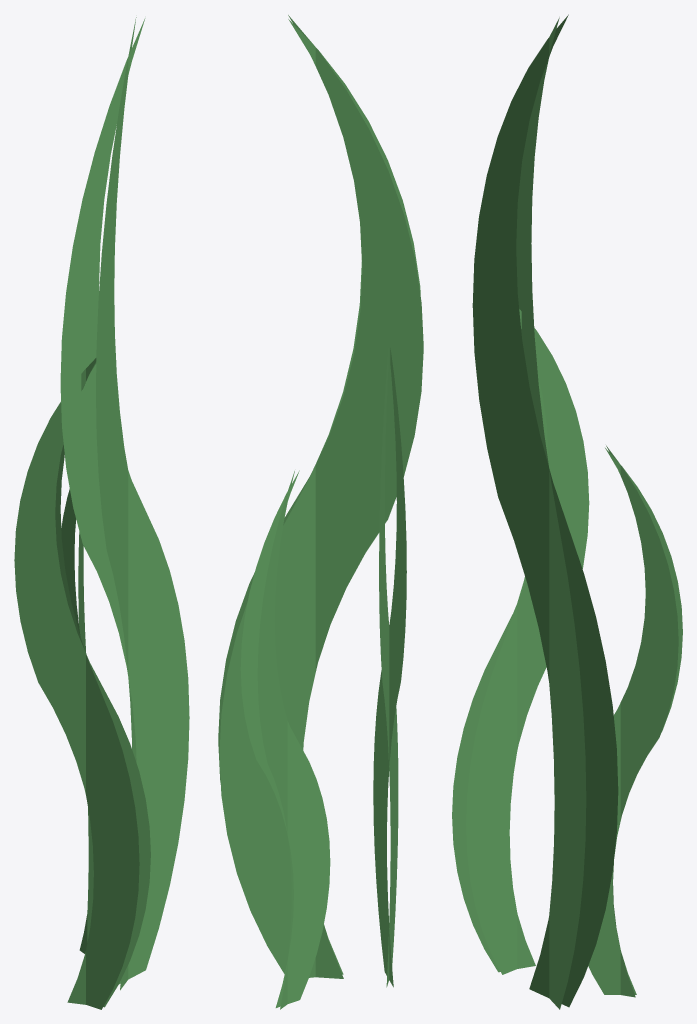
Rendered from seaweed.dae.
3 views of the same model, side by side, from view 1: azimuth 30°, elevation 25°; view 2: azimuth 150°, elevation 25°; view 3: azimuth 270°, elevation 25° (orthographic). The views are drawn at different scales.
Visible parts, largest first — view 1: weed_of_the_sea (×6); view 2: weed_of_the_sea (×6); view 3: weed_of_the_sea (×6).
Part boxes in pixels (bbox=[...]): weed_of_the_sea (×6): bbox=[14, 17, 189, 1009]; weed_of_the_sea (×6): bbox=[218, 15, 423, 1009]; weed_of_the_sea (×6): bbox=[452, 14, 682, 1009].
Size of the model in its own units: 7.79 by 8.26 by 39.2.
